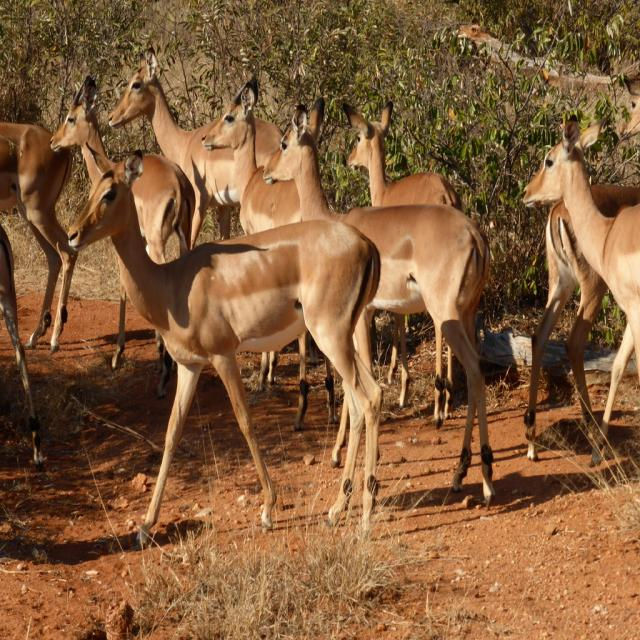Deer: (64, 144, 385, 533), (263, 96, 500, 504), (201, 72, 338, 421), (514, 114, 640, 471), (45, 75, 197, 369), (523, 180, 640, 467), (105, 43, 272, 231), (0, 118, 78, 356), (343, 104, 466, 212), (0, 216, 45, 468)
